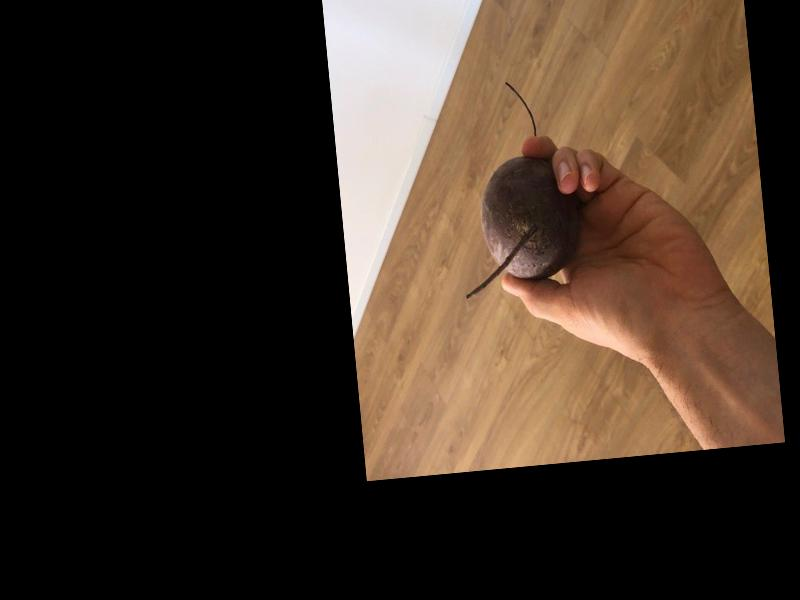Beet: (447, 75, 586, 297)
